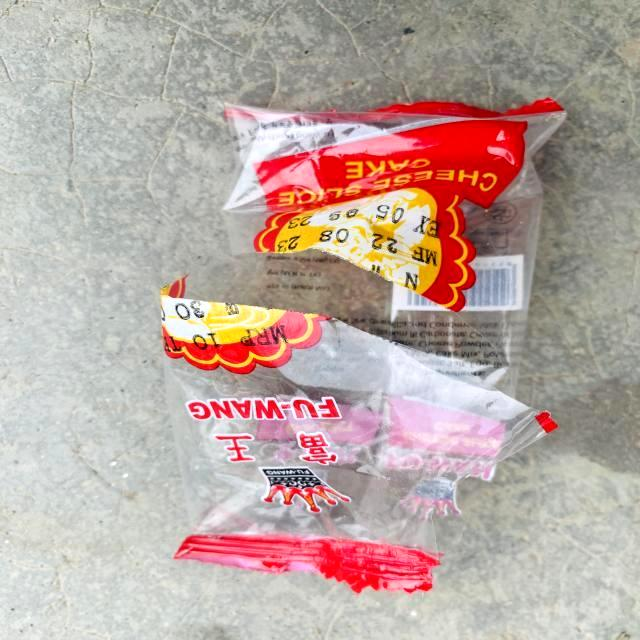packet: (157, 99, 566, 593)
